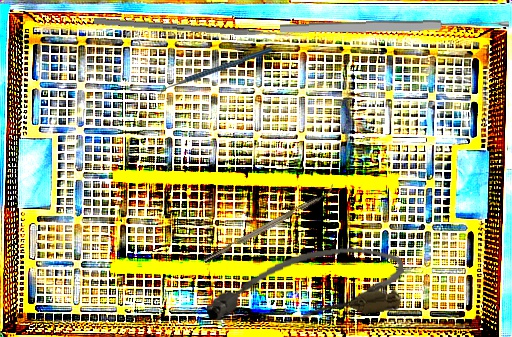Cannula: (201, 241, 409, 333)
Chopper: (199, 181, 338, 264), (156, 48, 273, 98)
Pusher: (94, 17, 303, 40)
Surgical Spoon: (279, 18, 510, 35)
